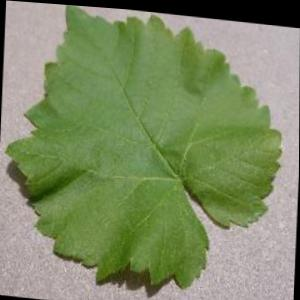Folha: (0, 0, 286, 300)
